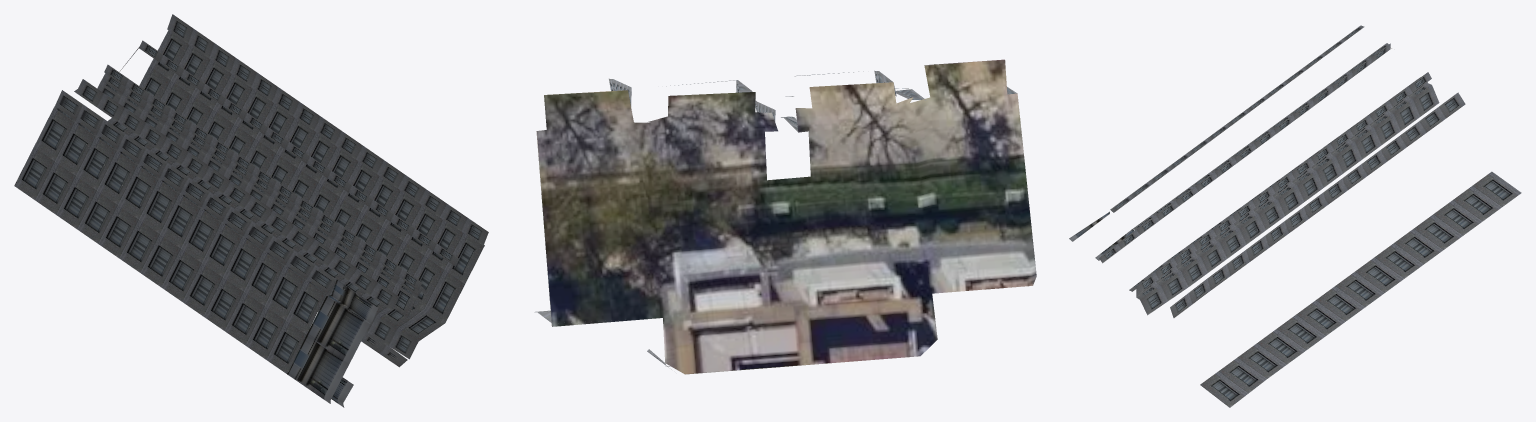
File: tile_LOD4_r2_c12.glb
3 views of the same model, side by side, from view 1: azimuth 30°, elevation 25°; view 2: azimuth 150°, elevation 25°; view 3: azimuth 270°, elevation 25° (orthographic). The views are drawn at different scales.
Size of the model in its own units: 54.5 by 39.75 by 61.
5 materials, 5 textured.
